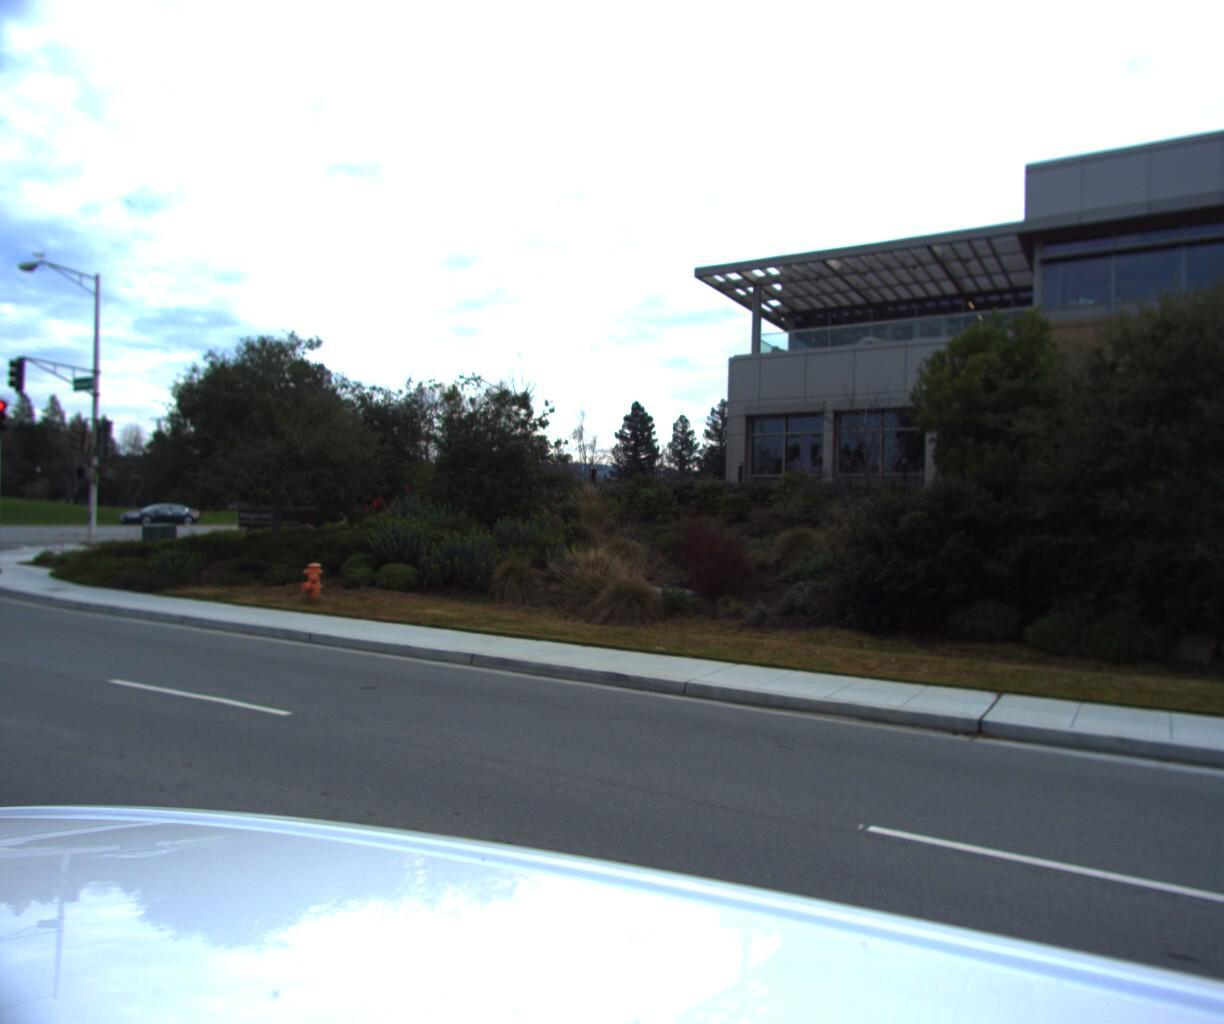car: (112, 505, 204, 531)
